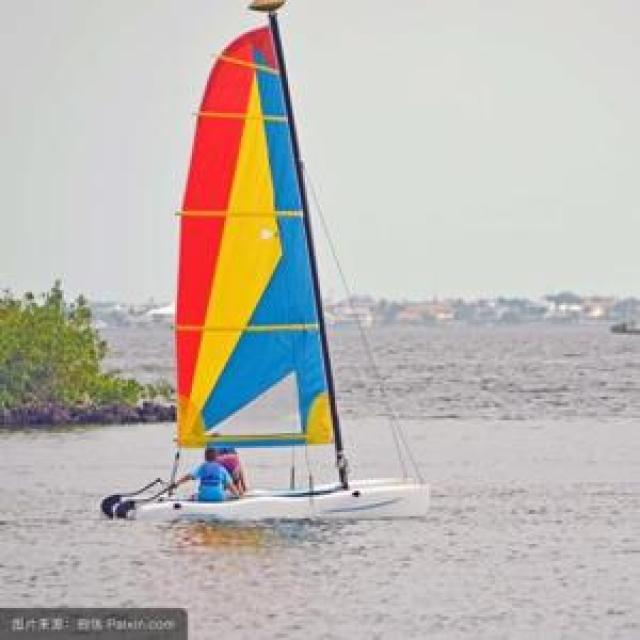sailboat: (98, 1, 420, 524)
